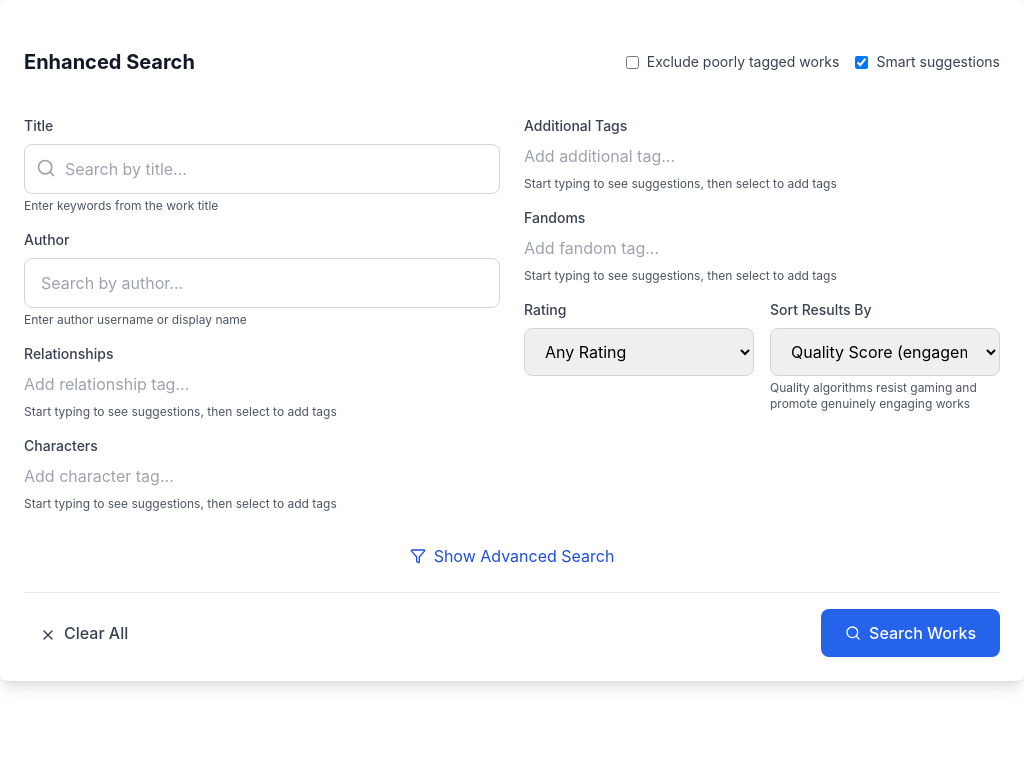
Test: SearchForm - Accessibility-First Implementation › Clear Functionality › clears all filters
Type "test" into the field labelled "Title". click: coordinates (262, 169)
box: left=24, top=144, right=500, bottom=194
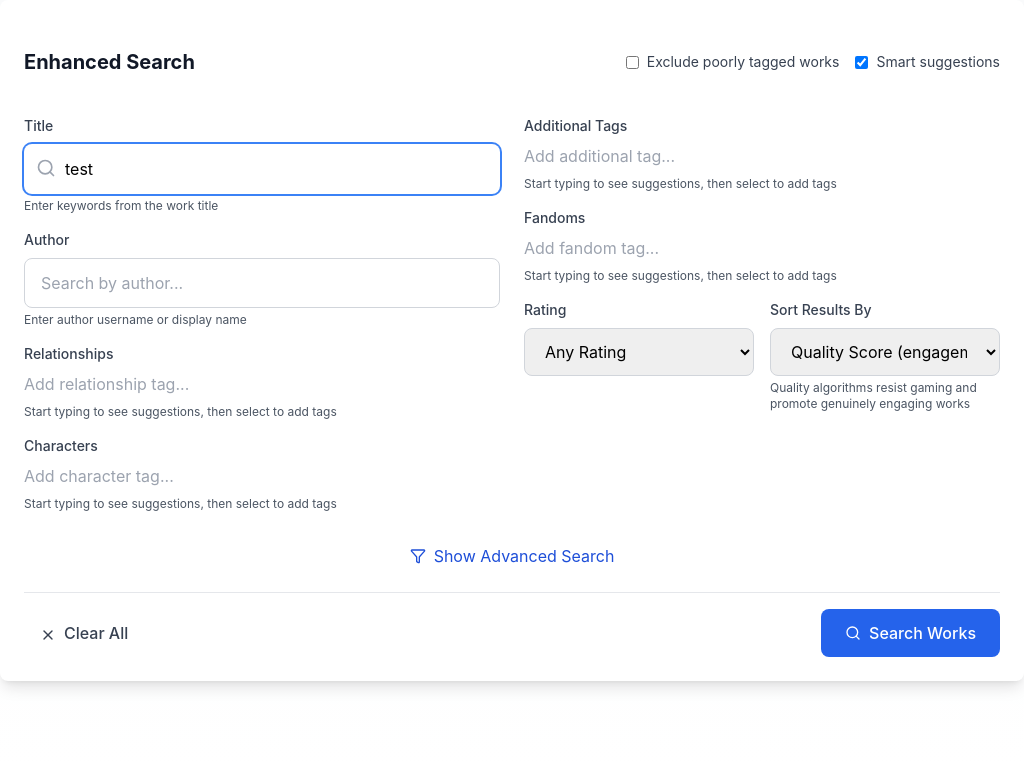
Click the button "Clear All". click: coordinates (84, 633)
box: left=24, top=613, right=144, bottom=653
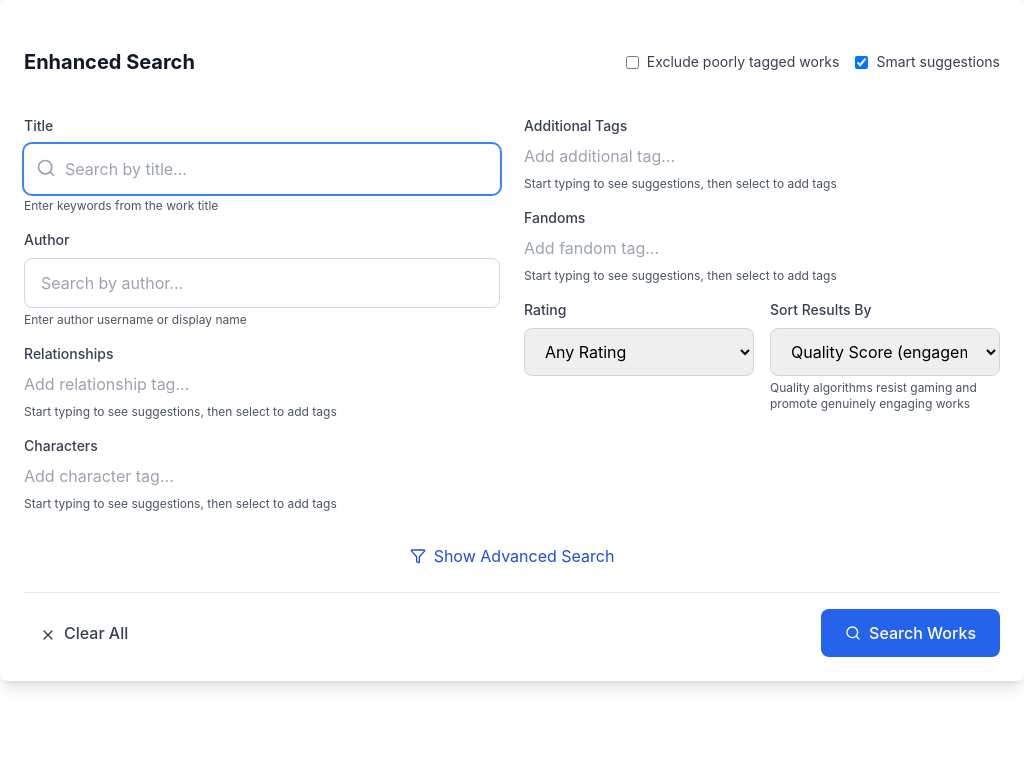
Expected: the field labelled "Title" is empty, left=24, top=144, right=500, bottom=194
